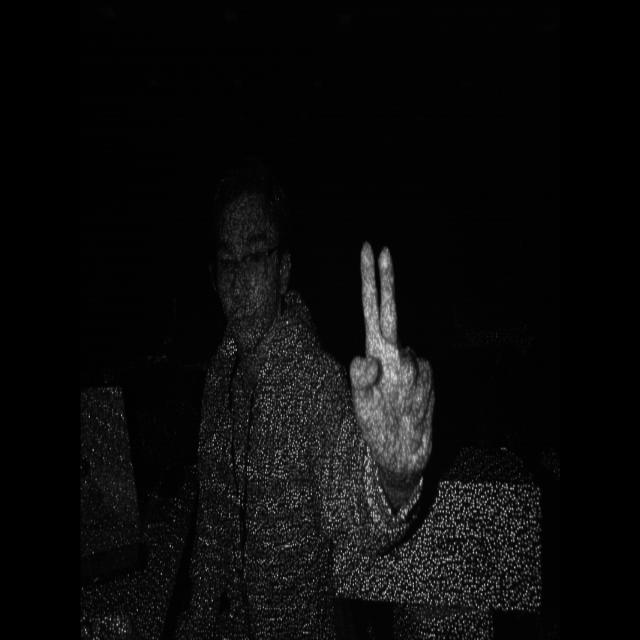U: (343, 217, 465, 526)
